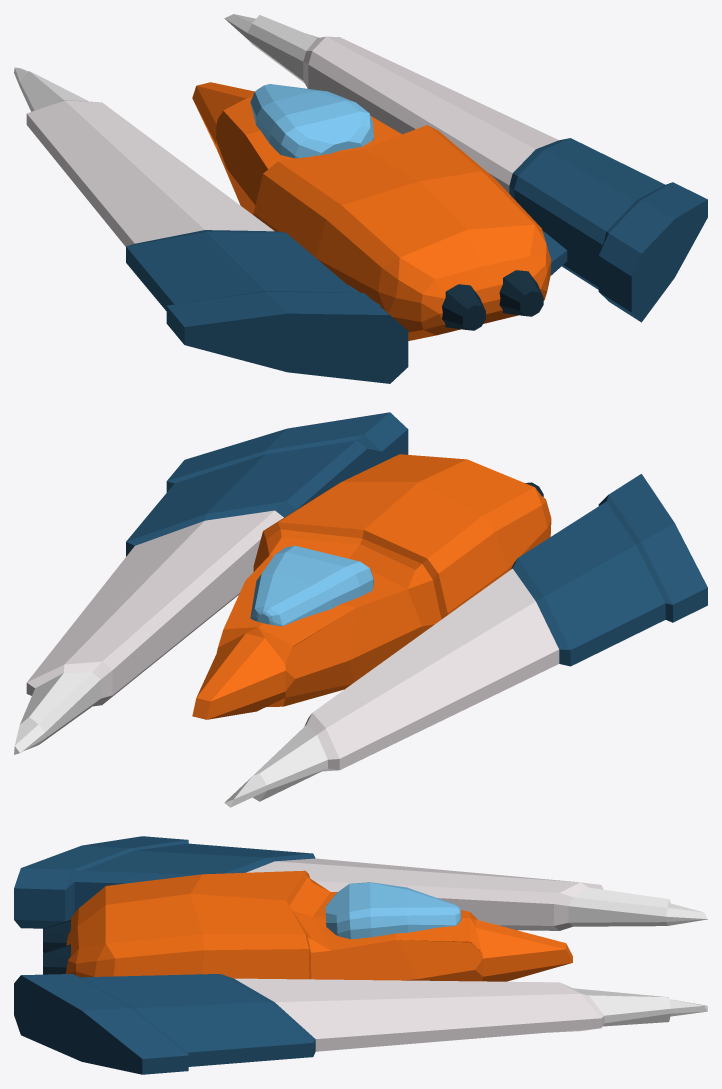
Rendered from mySpaceShip.fbx.
3 renders of one model, top to bottom at view 1: azimuth 30°, elevation 25°; view 2: azimuth 150°, elevation 25°; view 3: azimuth 270°, elevation 25°, orthographic. The views are drawn at different scales.
Parts seen in each view (by area): view 1: Cube.004; view 2: Cube.004; view 3: Cube.004.
Boxes of the visible parts, x1,y1,x2,y2 form: Cube.004: (14,14,707,383); Cube.004: (14,412,707,807); Cube.004: (14,836,707,1074).
Bounding box in the file's own units: 182 × 42.5 × 240.
